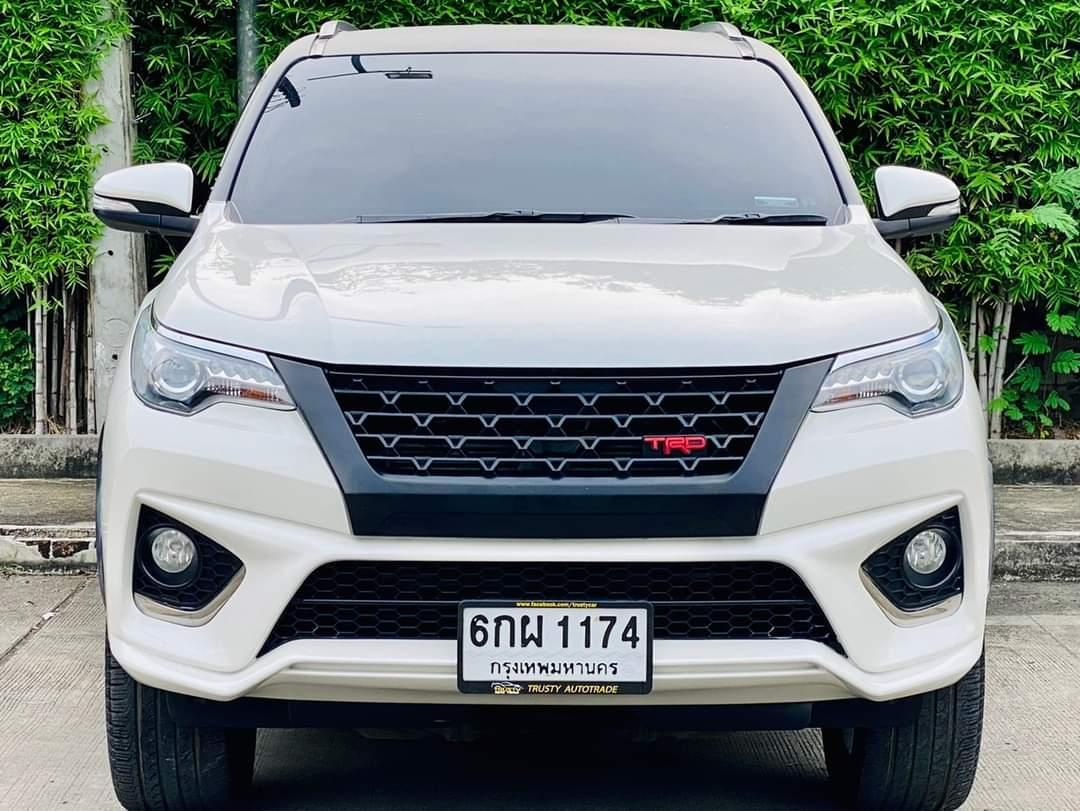license-plate: (453, 592, 657, 698)
